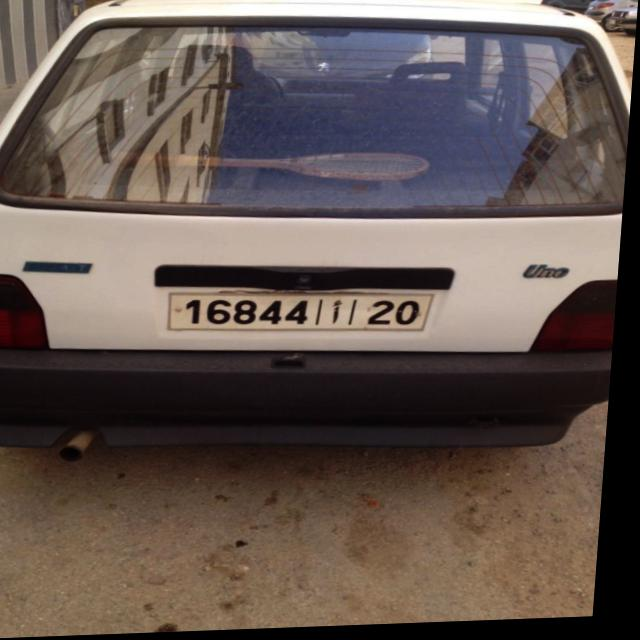License-Plate: (174, 296, 436, 333)
